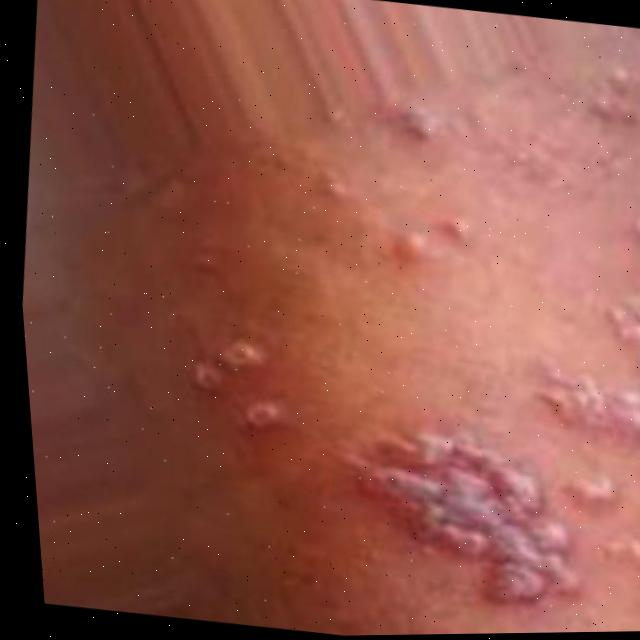Shingles: (313, 151, 640, 634), (188, 340, 288, 433)
